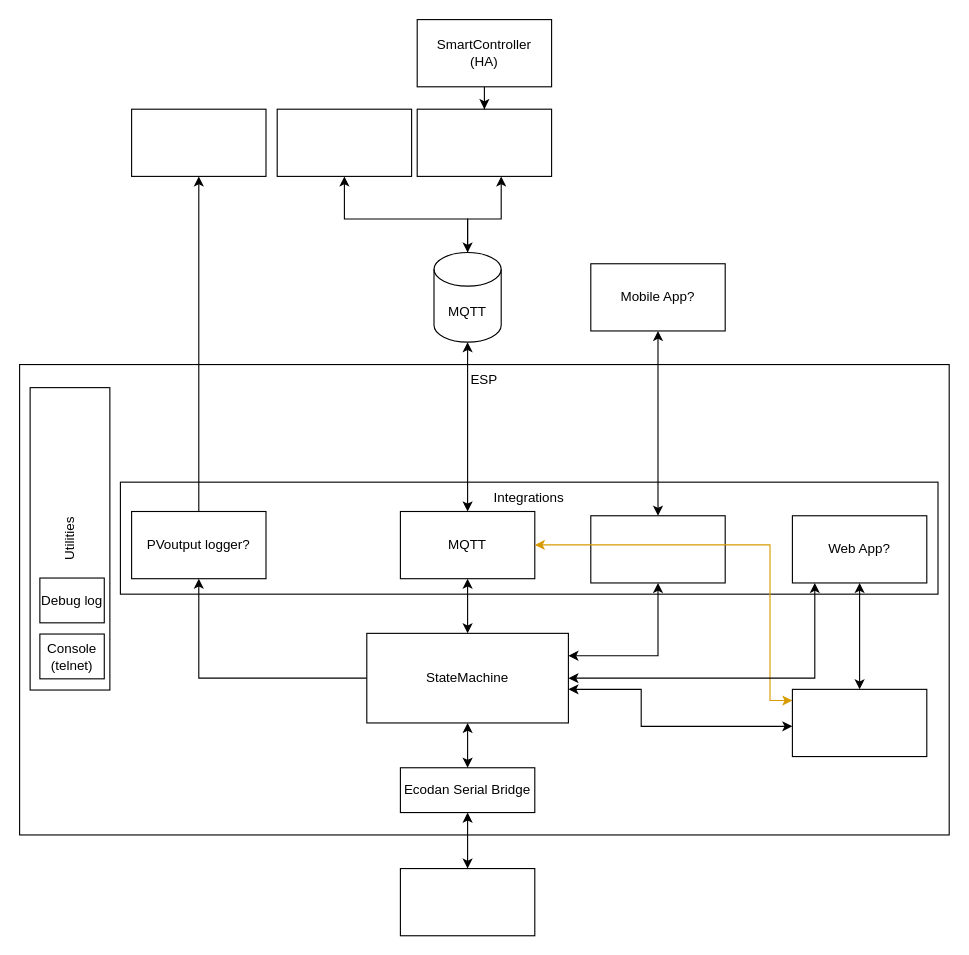
Image size: 969x955. Some labels were removed from this diagram. Here are the shapes that lost their labels. From the top down, the centre of each, then its label:
[198,142]: PVoutput.org? ("misbruikt" voor warmtepomp data)
[344,142]: InfluxDB/ Grafana
[484,142]: Home Assistant - MQTT autodiscovery2
[657,549]: REST?
[859,722]: SmartController (Internal)
[467,901]: Ecodan
